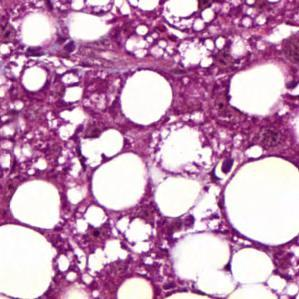steatosis: (90, 155, 152, 212), (119, 66, 173, 128), (11, 177, 64, 230)
